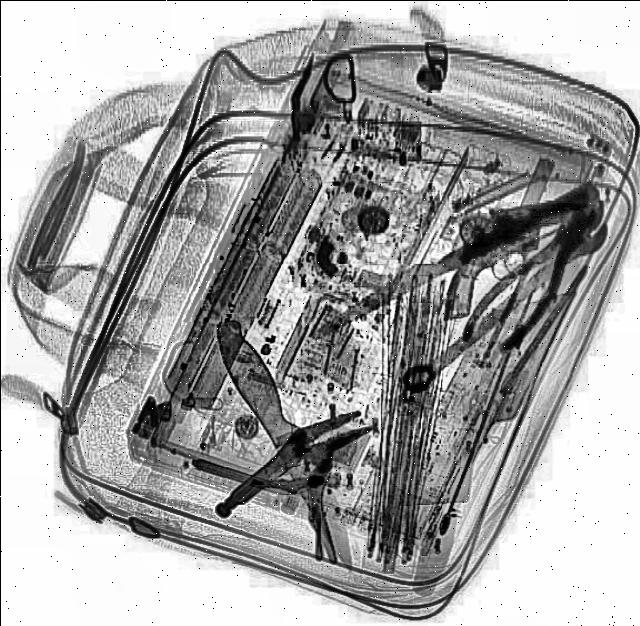Gun: (420, 185, 620, 320)
Knife: (310, 176, 600, 336), (208, 314, 370, 572)
Pliers: (454, 191, 620, 363)
Wrench: (392, 207, 616, 400)
